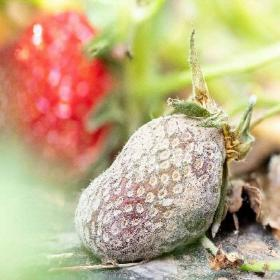Gray Mold: (73, 26, 257, 264)
